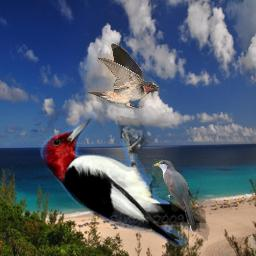Cuckoo: (152, 159, 199, 233)
Swallow: (87, 43, 159, 109)
Woodpecker: (23, 110, 214, 254)
